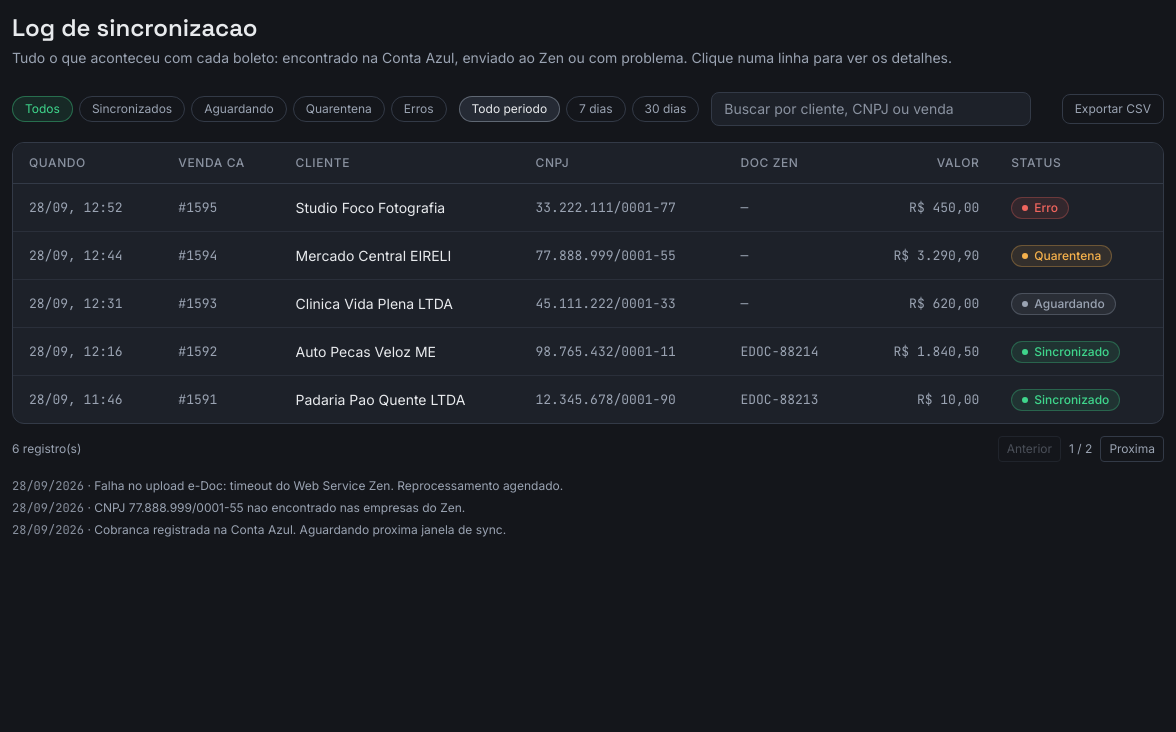
Test: SyncLog › lista boletos e filtra por status Erro
Expected: the text "Padaria Pao Quente LTDA" is shown, [280, 376, 520, 423]
Click the button "Erros".
click(419, 109)  # box [391, 96, 447, 122]
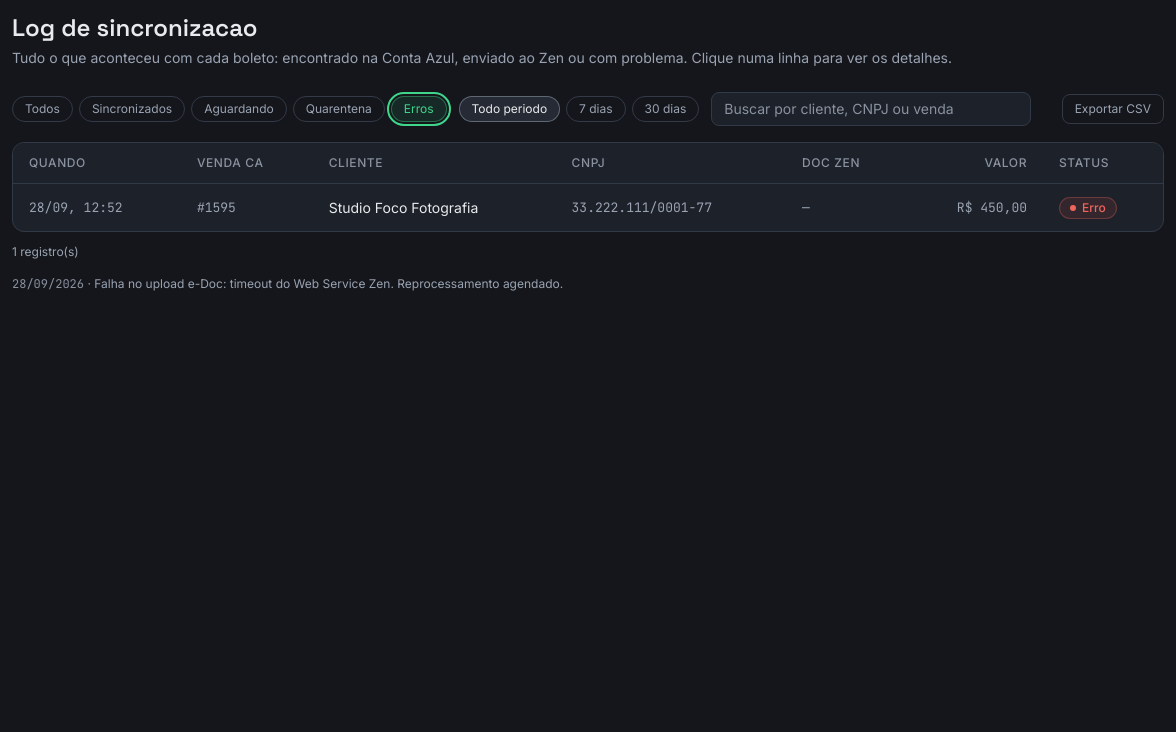
Expected: the text "Studio Foco Fotografia" is shown, [313, 184, 556, 231]
Now the text "Padaria Pao Quente" is gone
